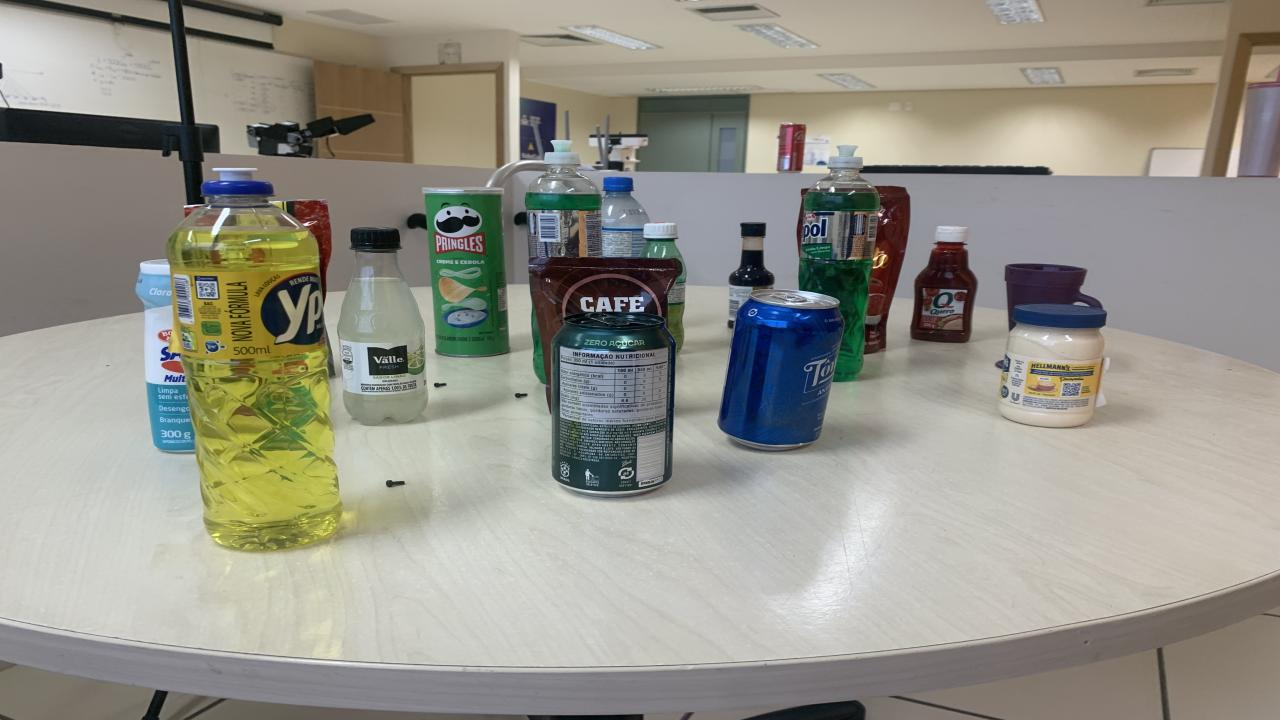Cleaner-Cleanup_Items: (135, 259, 195, 452)
Coffee-Pantry_Items: (530, 257, 682, 386)
Detergent-Cleanup_Items: (168, 169, 342, 549), (798, 146, 880, 382), (525, 141, 602, 257), (532, 308, 545, 382)
English_Sauce-Pantry_Items: (728, 223, 775, 328)
Guarana-Drinks: (640, 223, 688, 351)
Guarana_Can-Drinks: (550, 311, 675, 497)
Ketchup-Pantry_Items: (910, 225, 978, 343)
Mayonnaise-Pantry_Items: (998, 304, 1105, 428)
Pringles-Snacks: (422, 188, 510, 356)
Soda-Drinks: (338, 227, 428, 426)
Tomato_Sauce-Pantry_Items: (865, 186, 910, 352), (272, 199, 332, 298), (795, 189, 810, 253), (182, 204, 200, 218)
Tonic-Drinks: (718, 289, 842, 450)
Water_Bottle-Drinks: (600, 176, 650, 257)
